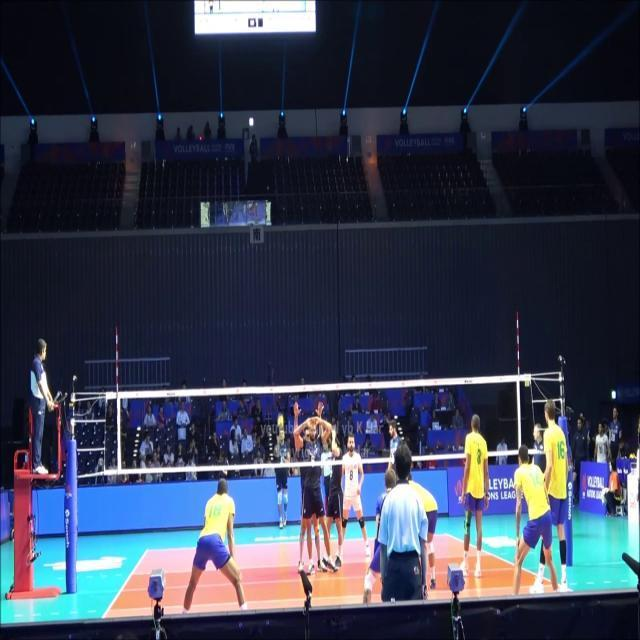volleyball: (278, 416, 284, 428)
